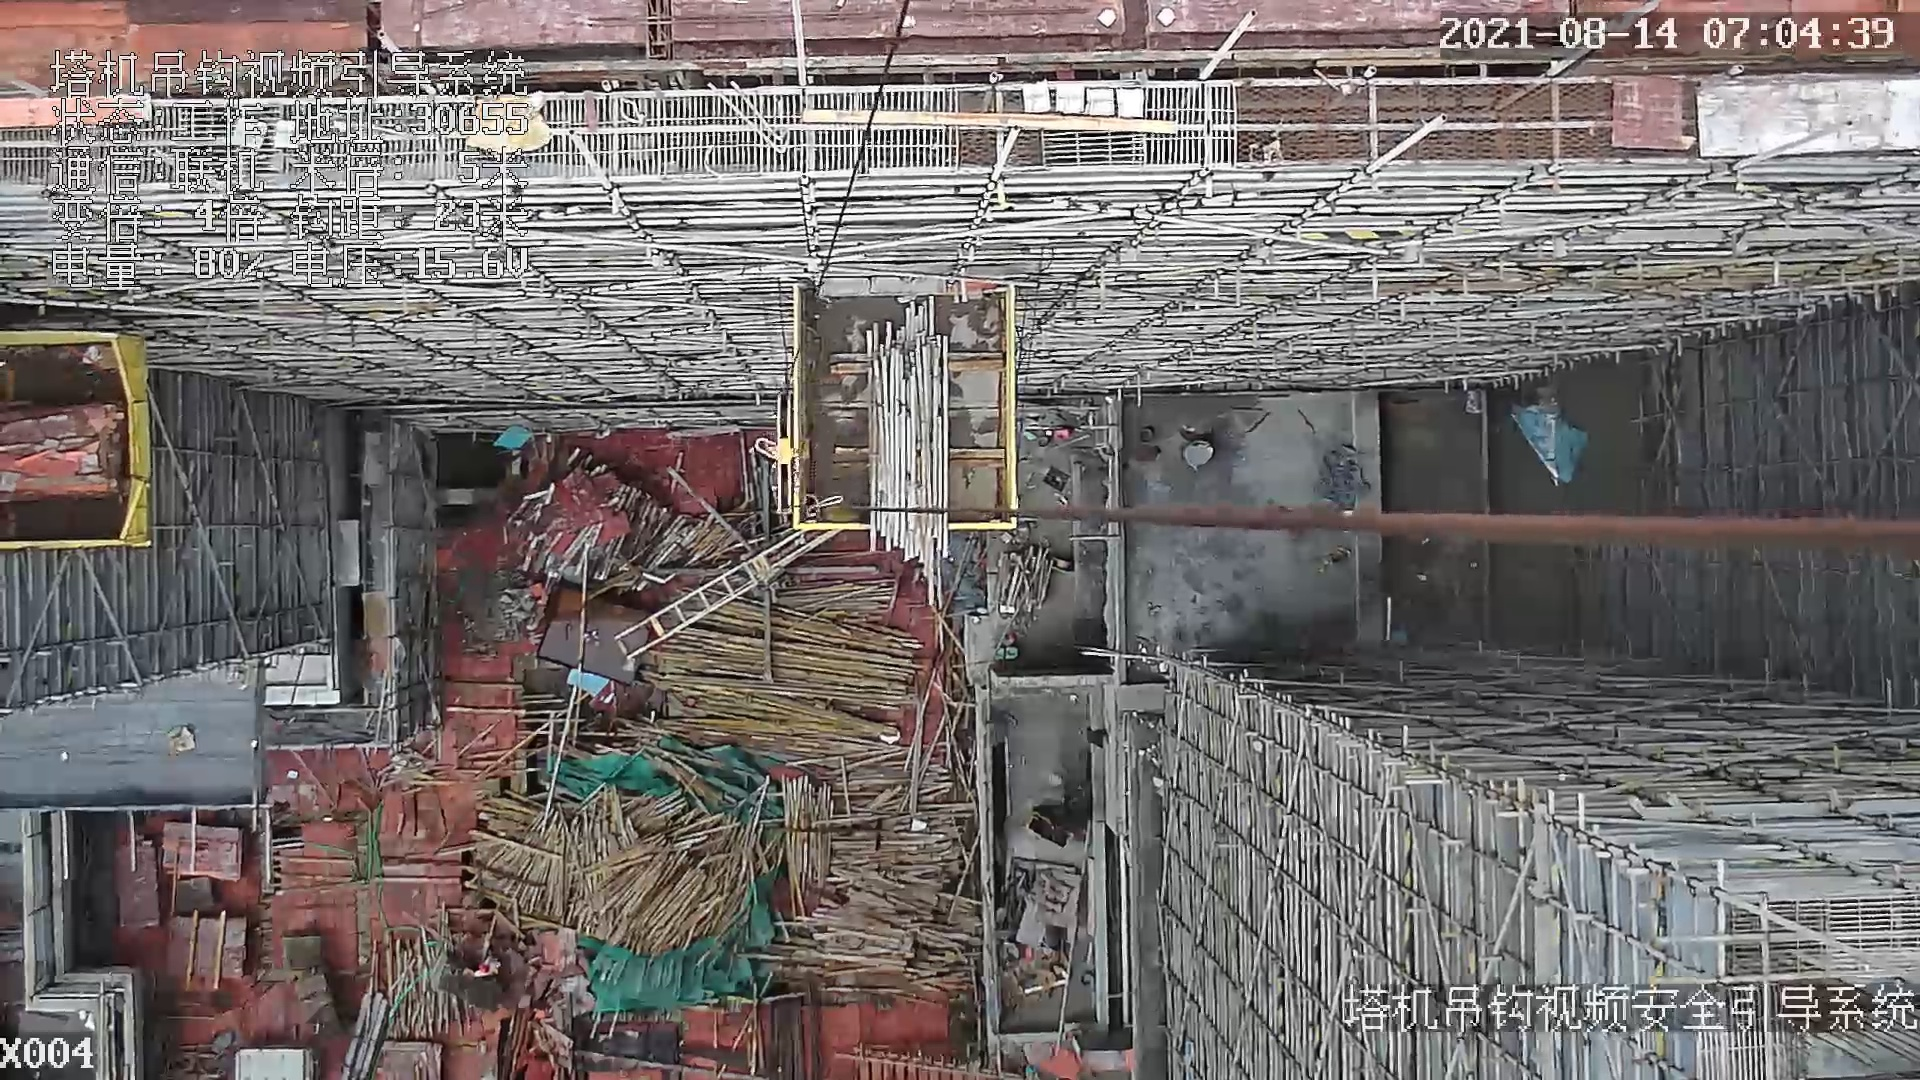hook: (752, 392, 795, 517)
